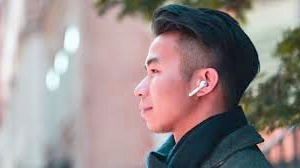earphone: (187, 67, 219, 98)
